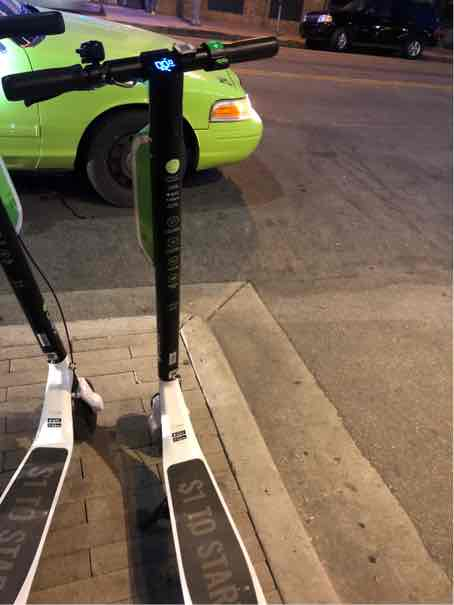scooter: (4, 45, 326, 605)
